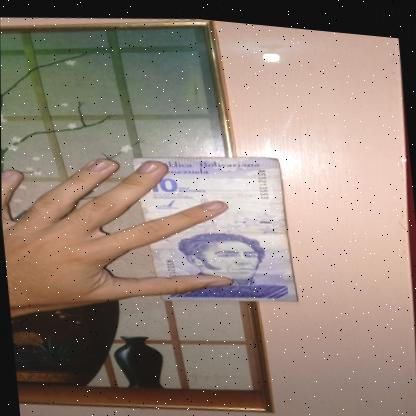ten-front-vef: (132, 140, 300, 310)
